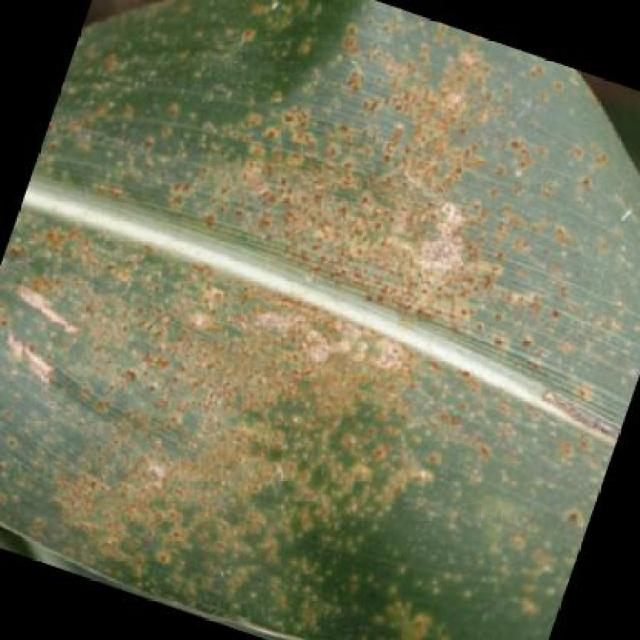Corn_Rust: (86, 63, 563, 577)
